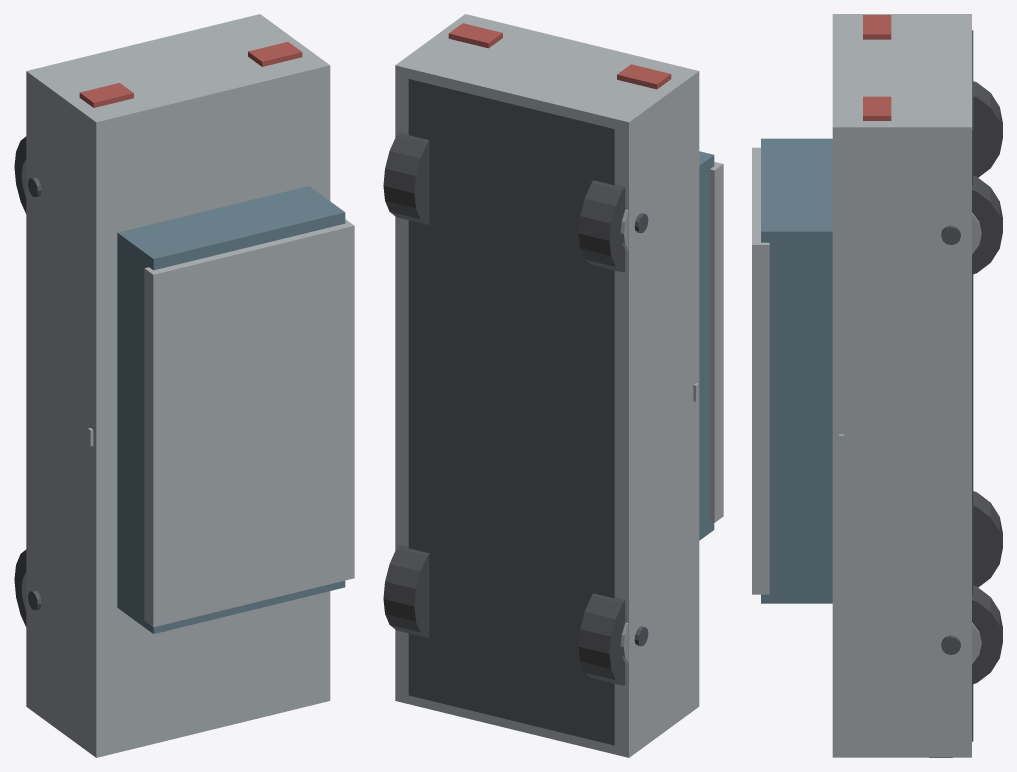
File: midsize_sedan.glb
3 views of the same model, side by side, from view 1: azimuth 30°, elevation 25°; view 2: azimuth 150°, elevation 25°; view 3: azimuth 270°, elevation 25° (orthographic).
Visible parts, largest first — view 1: 0000_Car_body, 0003_Roof, 0002_Cabin_glass, 0009_Tail_lamp, 0007_Tail_lamp, 0012_Wheel_tire, 0018_Wheel_tire; view 2: 0001_Chassis_black, 0000_Car_body, 0003_Roof, 0002_Cabin_glass, 0015_Wheel_tire, 0021_Wheel_tire, 0012_Wheel_tire, 0018_Wheel_tire, 0007_Tail_lamp, 0009_Tail_lamp; view 3: 0000_Car_body, 0002_Cabin_glass, 0003_Roof, 0012_Wheel_tire, 0018_Wheel_tire, 0021_Wheel_tire, 0015_Wheel_tire, 0001_Chassis_black, 0007_Tail_lamp, 0009_Tail_lamp.
Part boxes in pixels (x1,y1,x2,y2): 0000_Car_body: (26, 14, 330, 757); 0003_Roof: (144, 219, 354, 627); 0002_Cabin_glass: (117, 186, 345, 633); 0009_Tail_lamp: (248, 42, 302, 66); 0007_Tail_lamp: (79, 83, 133, 107); 0012_Wheel_tire: (14, 549, 26, 626); 0018_Wheel_tire: (14, 136, 26, 213); 0001_Chassis_black: (408, 78, 614, 745); 0000_Car_body: (395, 14, 699, 757); 0003_Roof: (710, 162, 723, 522); 0002_Cabin_glass: (699, 151, 714, 540); 0015_Wheel_tire: (383, 545, 429, 637); 0021_Wheel_tire: (383, 131, 429, 224); 0012_Wheel_tire: (578, 593, 625, 685); 0018_Wheel_tire: (578, 180, 625, 272); 0007_Tail_lamp: (617, 64, 671, 89); 0009_Tail_lamp: (448, 23, 502, 48); 0000_Car_body: (832, 14, 971, 757); 0002_Cabin_glass: (761, 138, 832, 603); 0003_Roof: (752, 147, 769, 594); 0012_Wheel_tire: (973, 491, 1002, 587); 0018_Wheel_tire: (973, 81, 1002, 177); 0021_Wheel_tire: (972, 175, 1002, 274); 0015_Wheel_tire: (972, 585, 1002, 684); 0001_Chassis_black: (972, 30, 973, 741); 0007_Tail_lamp: (863, 15, 891, 39); 0009_Tail_lamp: (863, 96, 891, 120).
Size of the model in its own units: 1.87 by 4.8 by 1.7.
